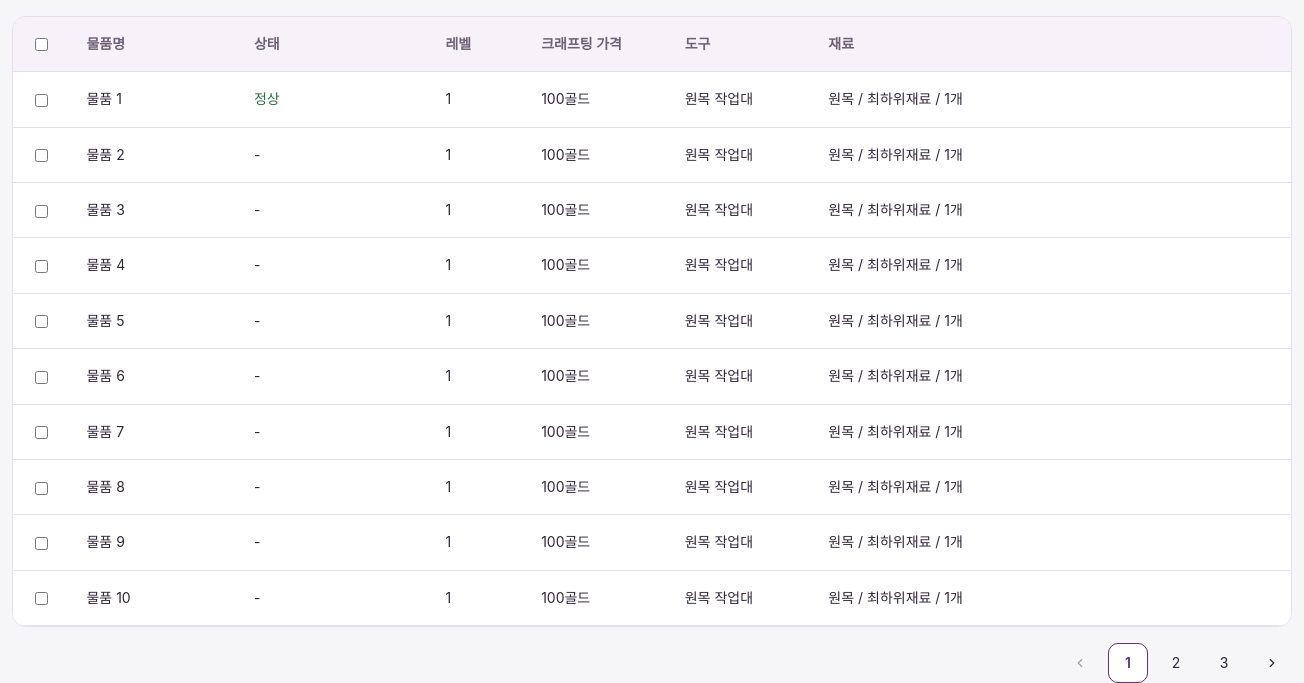
Test case: ProductManagePage › 보던 페이지가 범위를 넘으면(다른 곳에서 물품 삭제 등) 마지막 페이지로 한 번에 바로잡는다
(page scrolled)
Check: the text "물품 1" is shown, box x1=70 y1=72 x2=238 y2=128
Click the button named "3 페이지" at {"x": 1224, "y": 663}, box x1=1204 y1=643 x2=1244 y2=682
(page scrolled)
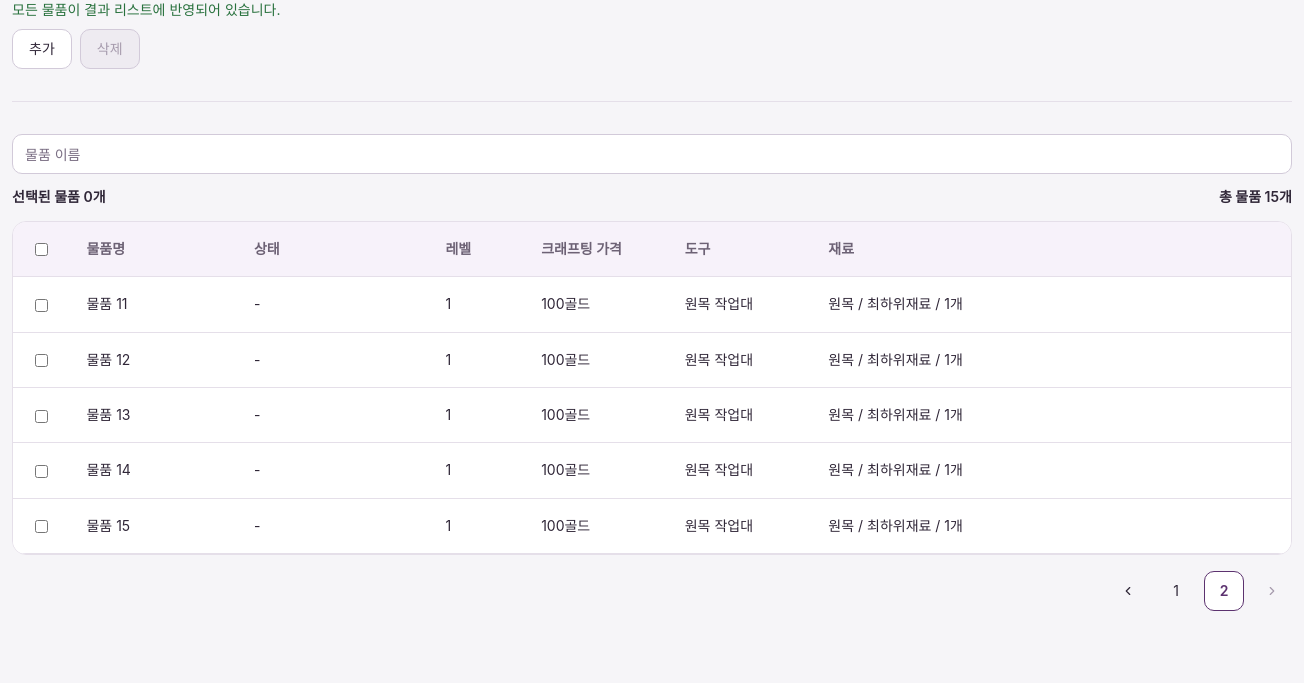
Check: the text "물품 11" is shown, box x1=70 y1=277 x2=238 y2=333
